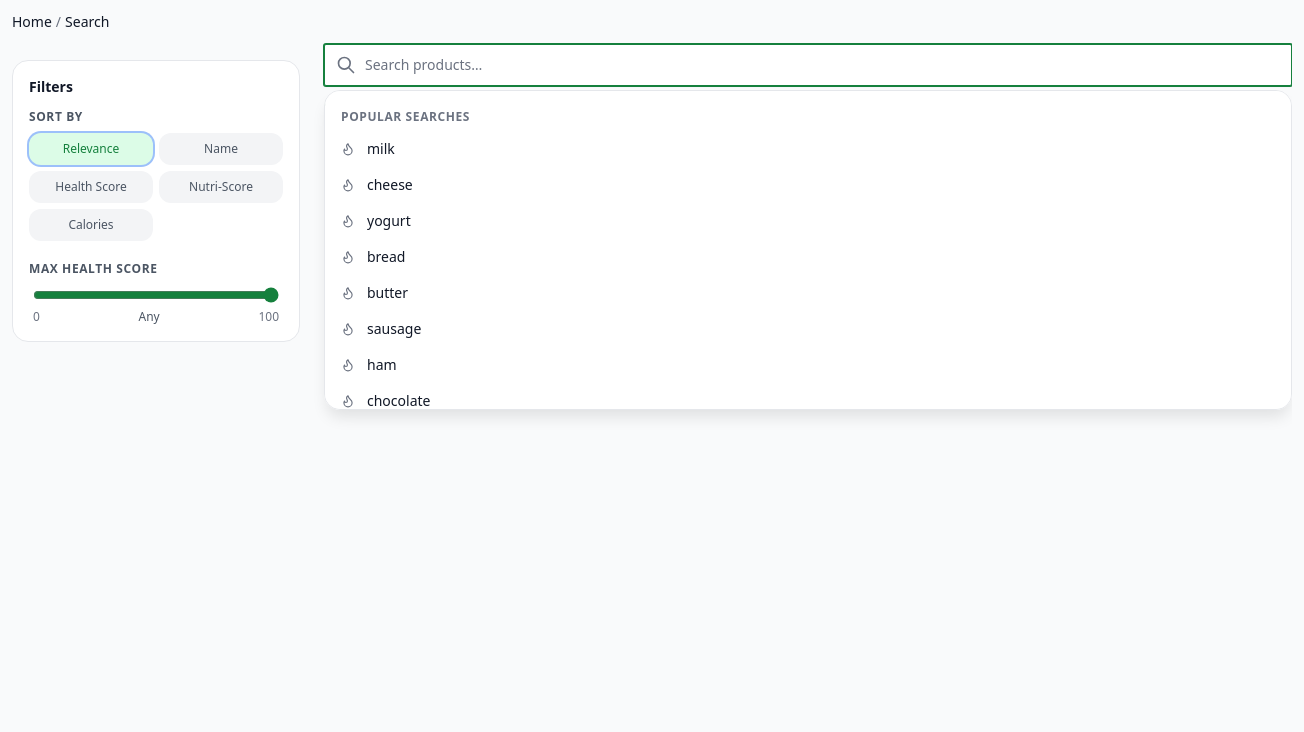
SearchPage › submits search on form submit and shows results
Type "chips" into the dropdown with placeholder "Search products…" at (808, 65), box [324,44,1292,86]
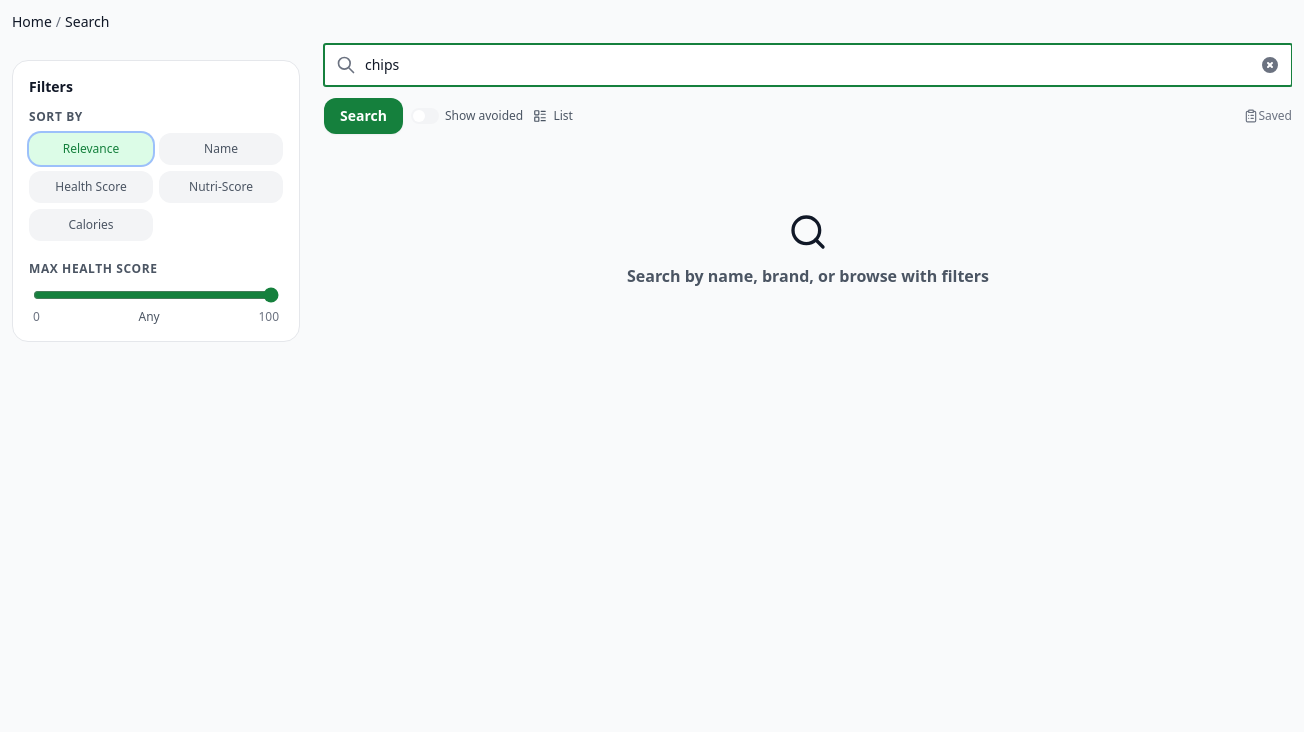
Click the button "Search" at (363, 116), box [324,98,403,134]
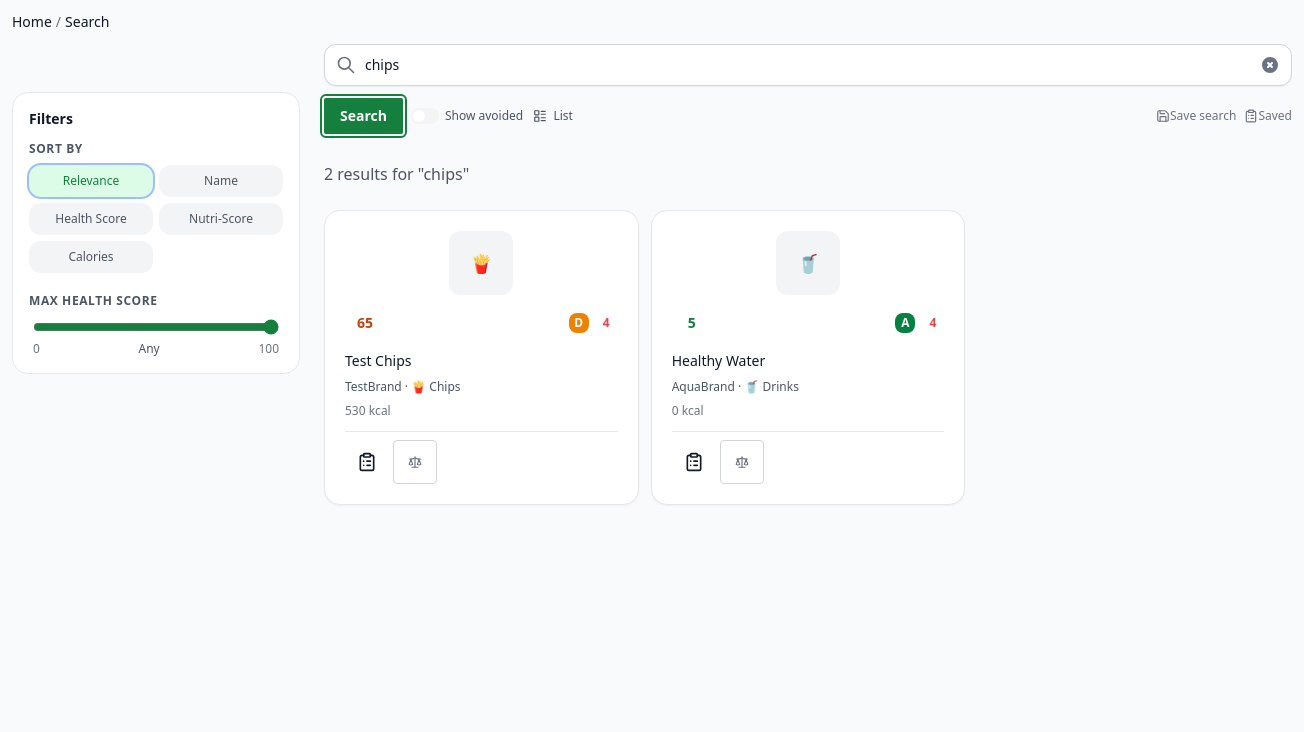
Check: the text "Test Chips" is shown, box [345,351,412,370]
Check: the text "Healthy Water" is shown, box [672,351,765,370]
Check: the text "2 results for \"chips\"" is shown, box [324,162,469,186]
